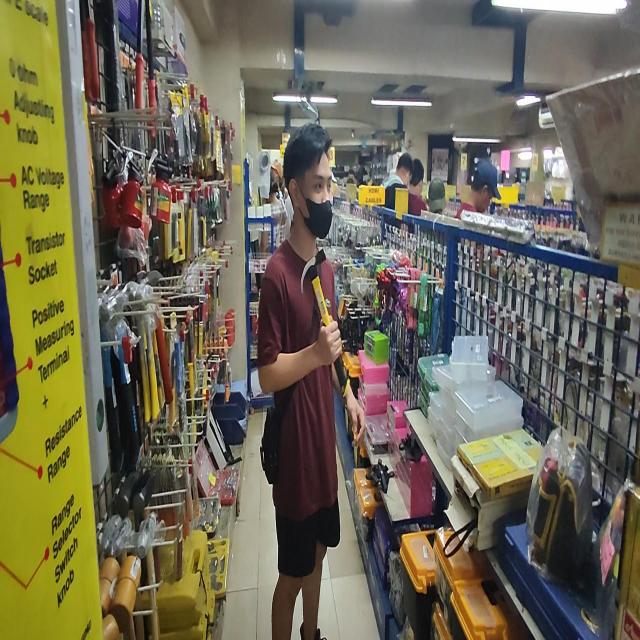hammer: (301, 248, 350, 398)
